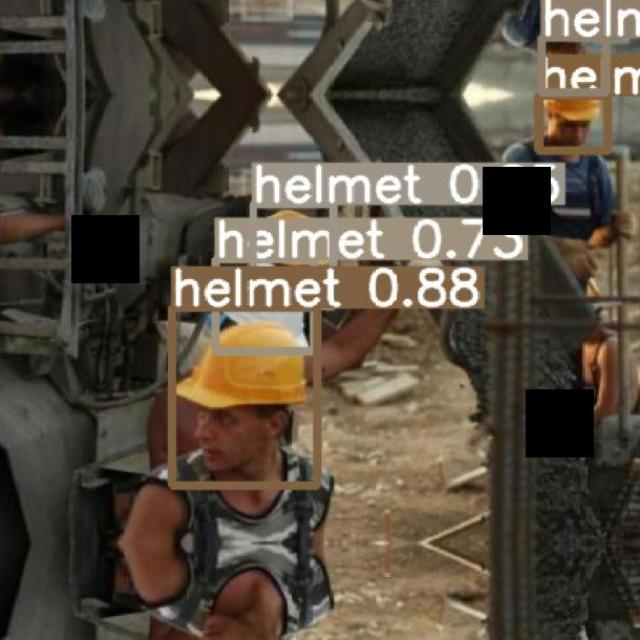helmet: (175, 321, 308, 410)
